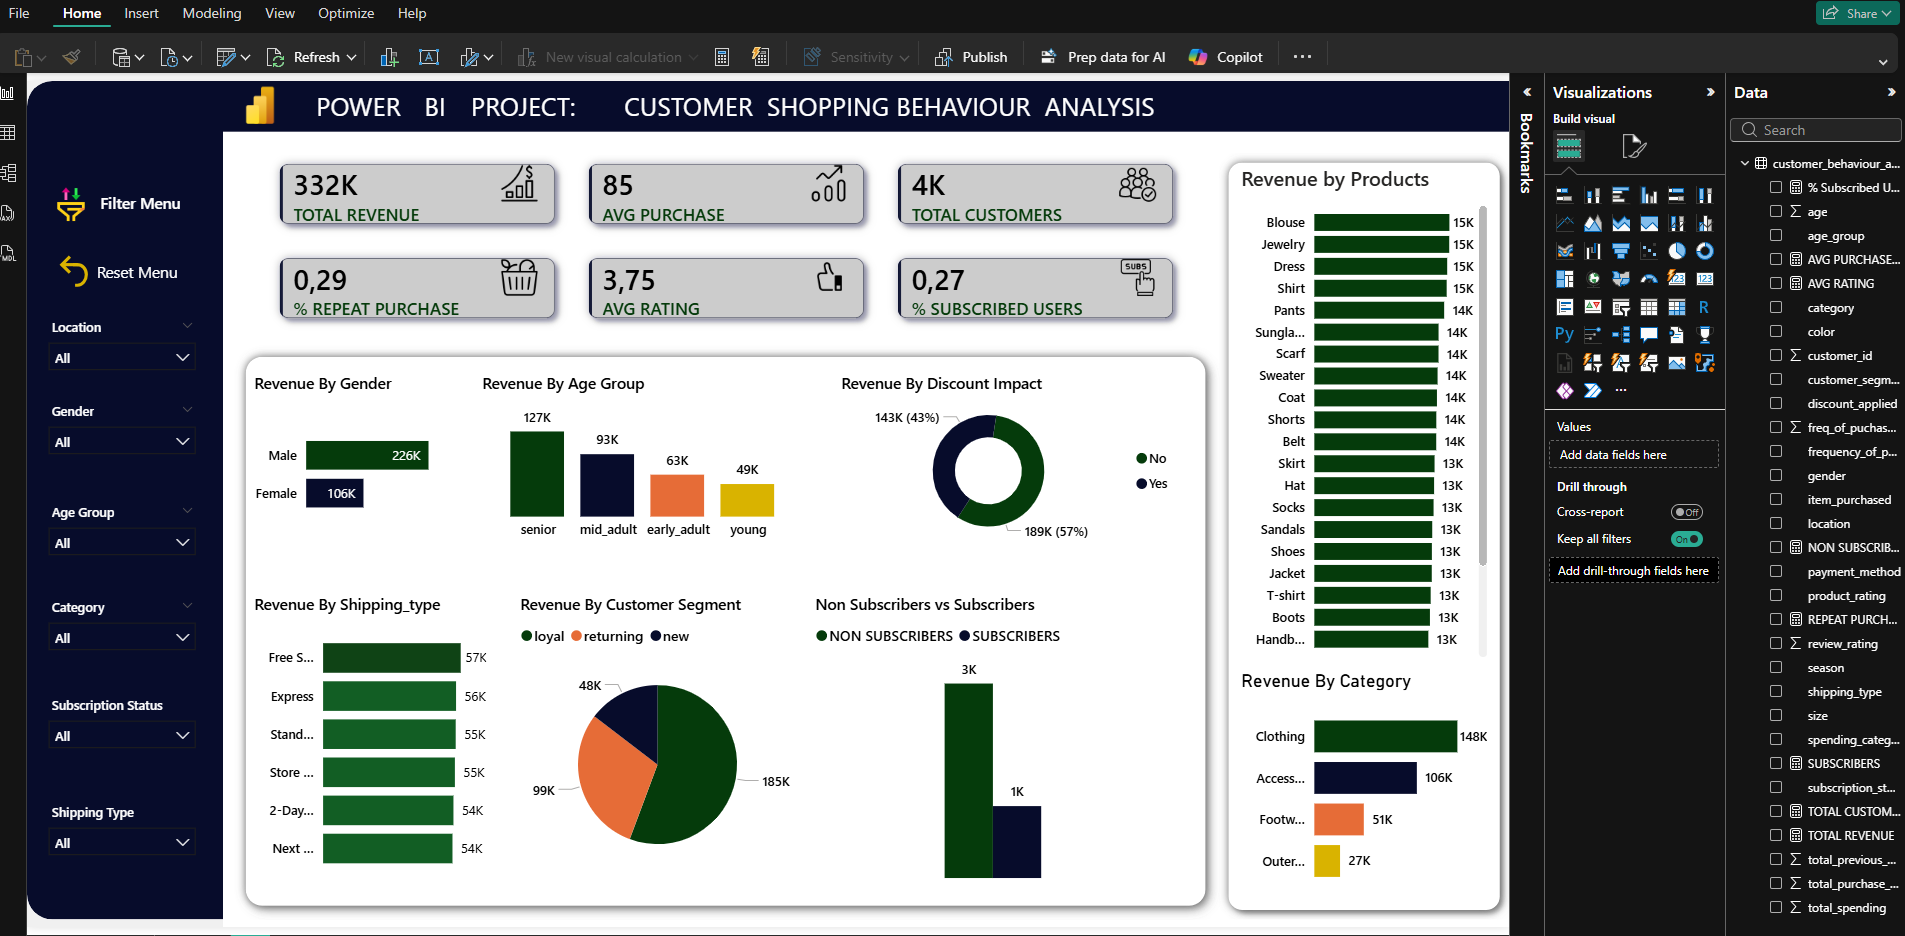

Layout of this report page (visuals, bound fields, positions):
{"tool":"powerbi","page":{"name":"Page 1","canvas":[1400,800],"ordinal":0},"visuals":[{"type":"shape","box":[0,0,1400.9,800.1],"z":0},{"type":"shape","box":[185.5,0,1215,800],"z":1000},{"type":"cardVisual","fields":{"Data":["customer_behaviour_analysis.TOTAL REVENUE","customer_behaviour_analysis.AVG PURCHASE VALUE","customer_behaviour_analysis.TOTAL CUSTOMERS","customer_behaviour_analysis.REPEAT PURCHASE RATE","customer_behaviour_analysis.AVG RATING","customer_behaviour_analysis.% SUBVSCRIBED USERS"]},"box":[209.5,48.9,903.7,204.5],"z":2000},{"type":"shape","box":[185.5,0,1215,47.9],"z":3000},{"type":"shape","box":[194.6,256,932.4,544.1],"z":4000},{"type":"barChart","title":" Revenue By Gender ","fields":{"Category":["customer_behaviour_analysis.gender"],"Y":["customer_behaviour_analysis.TOTAL REVENUE"]},"box":[209.6,274.6,209.6,166.6],"z":5000},{"type":"columnChart","title":"Revenue By Age Group","fields":{"Category":["customer_behaviour_analysis.age_group"],"Y":["customer_behaviour_analysis.TOTAL REVENUE"]},"box":[425.4,274.6,314.4,166.6],"z":6000},{"type":"barChart","title":"Revenue By Shipping_type","fields":{"Category":["customer_behaviour_analysis.shipping_type"],"Y":["customer_behaviour_analysis.TOTAL REVENUE"]},"box":[209.6,484.1,229.5,275.6],"z":7000},{"type":"pieChart","title":" Revenue By Customer Segment","fields":{"Category":["customer_behaviour_analysis.customer_segmentation"],"Y":["customer_behaviour_analysis.TOTAL REVENUE"]},"box":[461.1,484.1,269.3,275.6],"z":8000},{"type":"donutChart","title":"Revenue By Discount Impact","fields":{"Category":["customer_behaviour_analysis.discount_applied"],"Y":["customer_behaviour_analysis.TOTAL REVENUE"]},"box":[763.9,274.6,328,166.6],"z":9000},{"type":"image","box":[185.5,2,70.8,41.9],"z":10000},{"type":"shape","box":[1126.2,67.8,274.3,724.2],"z":11000},{"type":"clusteredBarChart","title":"Revenue By Category","fields":{"Category":["customer_behaviour_analysis.category"],"Y":["customer_behaviour_analysis.TOTAL REVENUE"]},"box":[1142.1,556.6,242.4,217.5],"z":12000},{"type":"textbox","box":[268.3,2,834.9,43.9],"z":13000},{"type":"clusteredColumnChart","title":"Non Subscribers vs Subscribers","fields":{"Y":["customer_behaviour_analysis.NON SUBSCRIBERS","customer_behaviour_analysis.SUBSCRIBERS"]},"box":[739.8,484.1,352.1,275.6],"z":14000},{"type":"barChart","title":"Revenue by Products","fields":{"Category":["customer_behaviour_analysis.item_purchased"],"Y":["customer_behaviour_analysis.TOTAL REVENUE"]},"box":[1142.1,79.8,242.4,469.8],"z":15000},{"type":"slicer","fields":{"Values":["customer_behaviour_analysis.location"]},"box":[10,219.5,158.6,54.9],"z":21000},{"type":"slicer","fields":{"Values":["customer_behaviour_analysis.gender"]},"box":[10,298.3,158.6,54.9],"z":21001},{"type":"slicer","fields":{"Values":["customer_behaviour_analysis.age_group"]},"box":[10,394,158.6,54.9],"z":21002},{"type":"slicer","fields":{"Values":["customer_behaviour_analysis.category"]},"box":[10,483.8,158.6,54.9],"z":21003},{"type":"slicer","fields":{"Values":["customer_behaviour_analysis.subscription_status"]},"box":[10,576.6,158.6,54.9],"z":21004},{"type":"slicer","fields":{"Values":["customer_behaviour_analysis.shipping_type"]},"box":[10,677.3,158.6,54.9],"z":21005},{"type":"image","box":[24.1,97.5,33.5,36.7],"z":21006},{"type":"textbox","box":[63.9,100.6,98.5,33.5],"z":21007},{"type":"actionButton","box":[24.1,159.3,121.6,39.8],"z":21010}]}

Visuals, with their boxes on the page's 1400x800 design canvas (x1, y1, x2, y2). These are canvas units, not pixel positions in the 1905x936 screenshot, which may show the page scaled, cropped or inside an application window:
shape: x1=0, y1=0, x2=1401, y2=800
shape: x1=186, y1=0, x2=1400, y2=800
cardVisual - customer_behaviour_analysis.TOTAL REVENUE x customer_behaviour_analysis.AVG PURCHASE VALUE: x1=210, y1=49, x2=1113, y2=253
shape: x1=186, y1=0, x2=1400, y2=48
shape: x1=195, y1=256, x2=1127, y2=800
" Revenue By Gender " barChart: x1=210, y1=275, x2=419, y2=441
"Revenue By Age Group" columnChart: x1=425, y1=275, x2=740, y2=441
"Revenue By Shipping_type" barChart: x1=210, y1=484, x2=439, y2=760
" Revenue By Customer Segment" pieChart: x1=461, y1=484, x2=730, y2=760
"Revenue By Discount Impact" donutChart: x1=764, y1=275, x2=1092, y2=441
image: x1=186, y1=2, x2=256, y2=44
shape: x1=1126, y1=68, x2=1400, y2=792
"Revenue By Category" clusteredBarChart: x1=1142, y1=557, x2=1384, y2=774
textbox: x1=268, y1=2, x2=1103, y2=46
"Non Subscribers vs Subscribers" clusteredColumnChart: x1=740, y1=484, x2=1092, y2=760
"Revenue by Products" barChart: x1=1142, y1=80, x2=1384, y2=550
slicer - customer_behaviour_analysis.location: x1=10, y1=220, x2=169, y2=274
slicer - customer_behaviour_analysis.gender: x1=10, y1=298, x2=169, y2=353
slicer - customer_behaviour_analysis.age_group: x1=10, y1=394, x2=169, y2=449
slicer - customer_behaviour_analysis.category: x1=10, y1=484, x2=169, y2=539
slicer - customer_behaviour_analysis.subscription_status: x1=10, y1=577, x2=169, y2=632
slicer - customer_behaviour_analysis.shipping_type: x1=10, y1=677, x2=169, y2=732
image: x1=24, y1=98, x2=58, y2=134
textbox: x1=64, y1=101, x2=162, y2=134
actionButton: x1=24, y1=159, x2=146, y2=199
